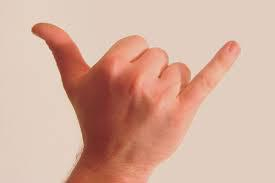subscribe-to-tem: (33, 22, 240, 164)
